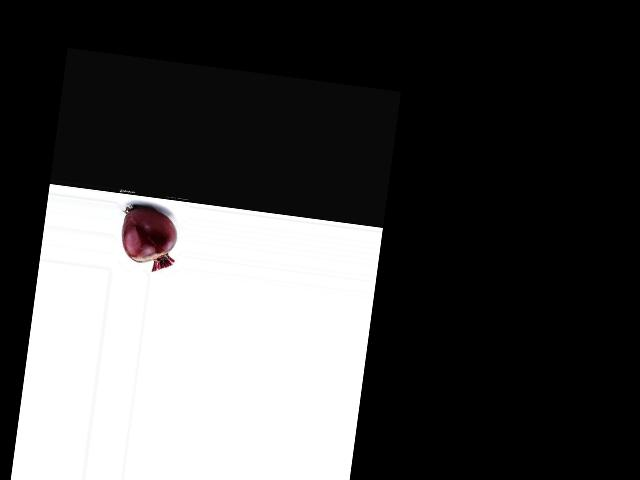beet: (117, 204, 181, 273)
